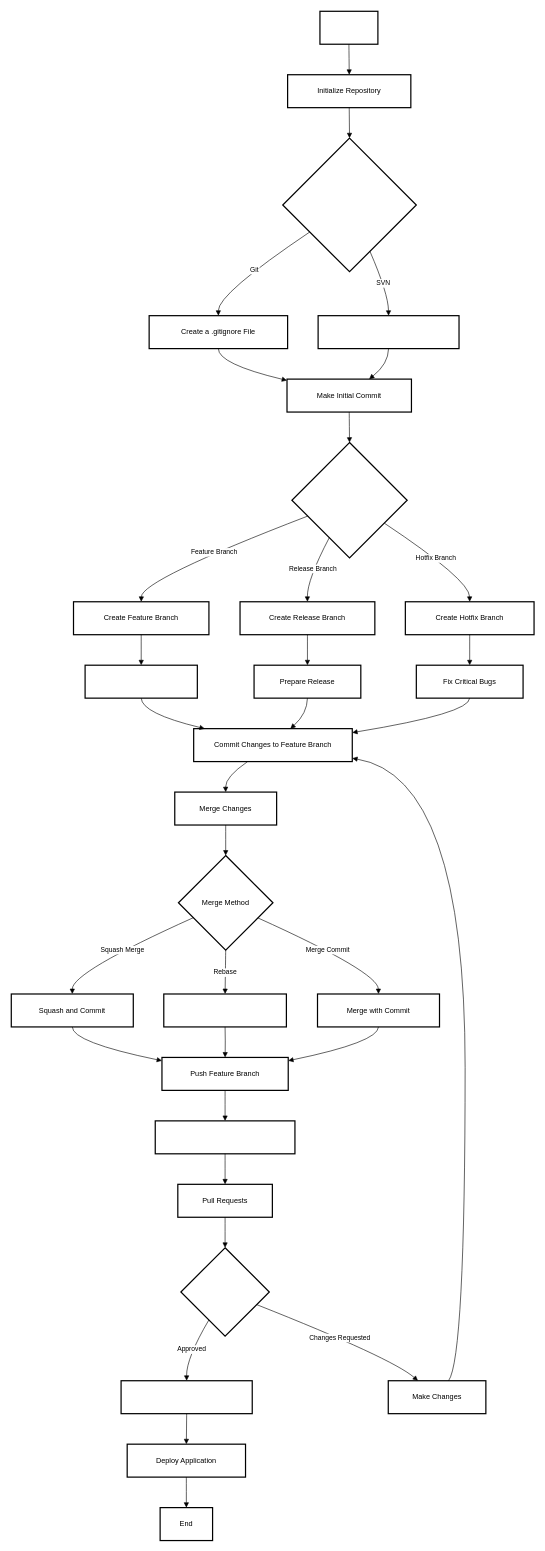
Some shapes in this 545 by 1551 pixel diagram are drawn without their labels. Each missing label, with the centre of its shape:
Branching Strategy: (349,500)
Code Review: (225,1292)
Create a .svnignore File: (388,332)
Develop Features: (141,681)
Merge to Main Branch: (186,1397)
Rebase and Commit: (225,1010)
Review and Collaborate: (224,1137)
Start: (348,27)
Version Control System: (349,204)
